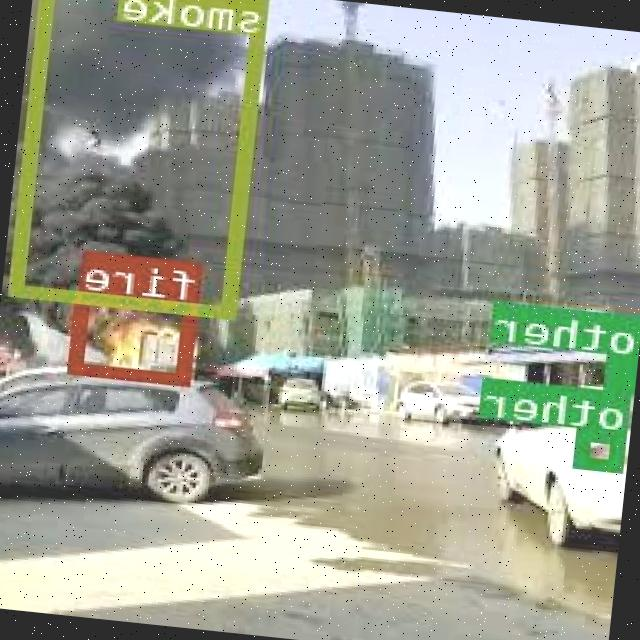fire: (72, 291, 199, 384)
smoke: (12, 0, 273, 316)
